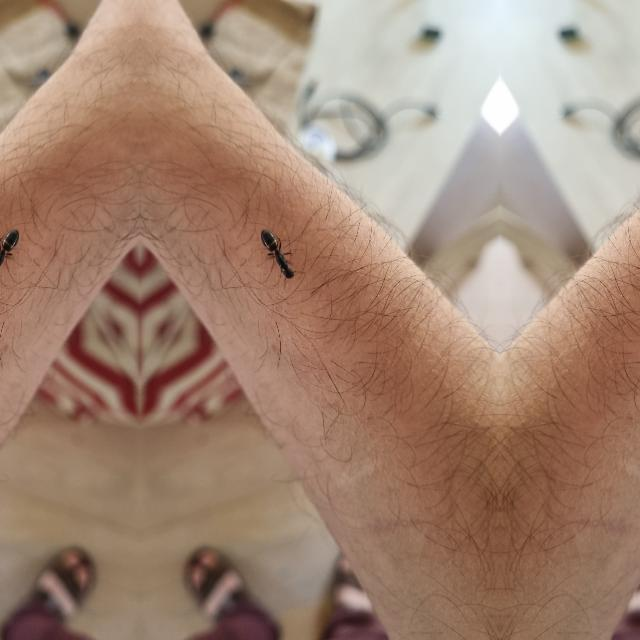Colobopsis: (258, 220, 300, 292), (0, 220, 22, 290)
